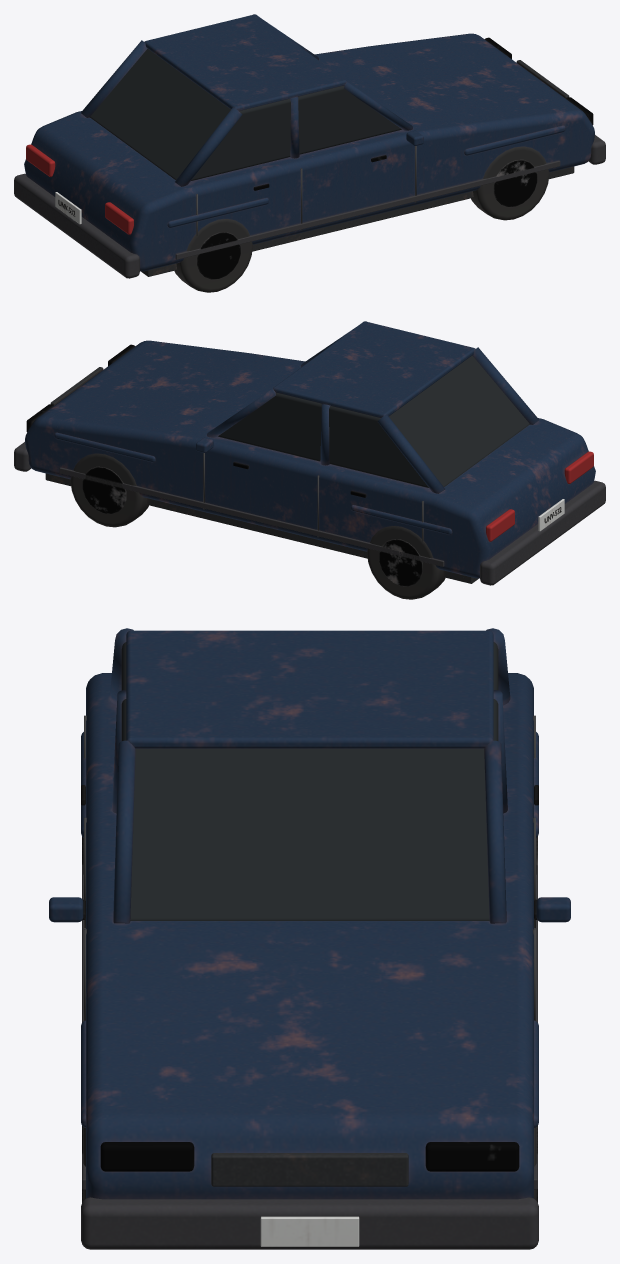
The model's file is auto_azul.glb.
3 renders of one model, top to bottom at view 1: azimuth 30°, elevation 25°; view 2: azimuth 150°, elevation 25°; view 3: azimuth 270°, elevation 25°, orthographic. The views are drawn at different scales.
Visible parts, largest first — view 1: auto_azul; view 2: auto_azul; view 3: auto_azul.
Part boxes in pixels (x1,y1,x2,y2): auto_azul: (14, 14, 605, 292); auto_azul: (14, 321, 605, 599); auto_azul: (49, 628, 570, 1249).
Bounding box in the file's own units: 4.56 × 1.54 × 2.12.
Materials: 3 (1 with a texture image).
